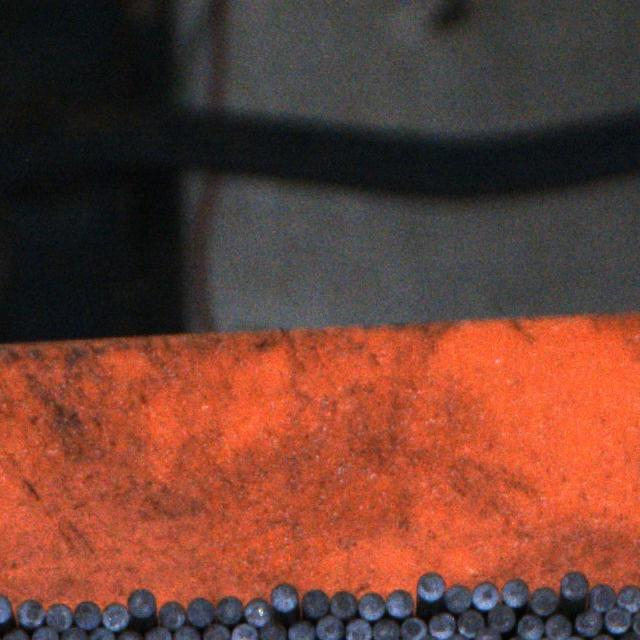tool: (559, 570, 589, 600), (17, 598, 47, 627), (127, 588, 156, 618), (528, 586, 558, 615), (417, 571, 445, 602), (301, 588, 329, 618), (472, 581, 500, 611), (385, 588, 413, 618), (502, 578, 530, 608), (244, 596, 272, 626), (270, 582, 298, 612), (215, 595, 243, 624), (73, 601, 101, 630), (187, 596, 214, 626), (358, 592, 386, 620), (575, 607, 603, 635), (101, 601, 129, 629), (588, 583, 616, 611), (456, 608, 484, 636), (331, 590, 358, 619), (159, 599, 186, 628), (487, 604, 514, 632), (429, 612, 456, 640), (47, 602, 73, 630), (446, 584, 472, 612), (544, 614, 572, 640), (604, 606, 631, 632), (517, 614, 543, 640), (617, 584, 640, 612), (318, 616, 344, 640), (401, 617, 427, 640), (344, 618, 371, 640), (371, 619, 398, 640), (288, 621, 314, 640), (231, 623, 258, 640), (260, 623, 286, 640), (203, 624, 229, 640), (145, 626, 173, 640), (31, 626, 58, 640), (474, 626, 501, 640), (61, 626, 87, 640), (0, 594, 12, 624), (173, 626, 198, 640), (0, 628, 29, 640), (89, 627, 115, 640), (118, 630, 144, 640), (632, 608, 640, 637), (619, 631, 640, 640), (444, 633, 470, 640), (588, 634, 616, 640)
